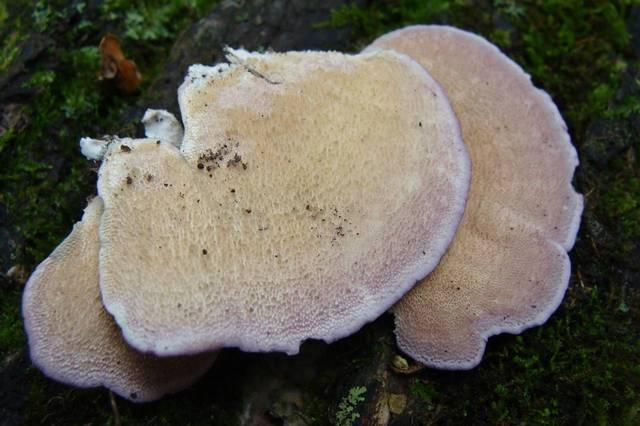Non-edible Mushroom: (20, 22, 584, 403), (358, 22, 585, 371)
